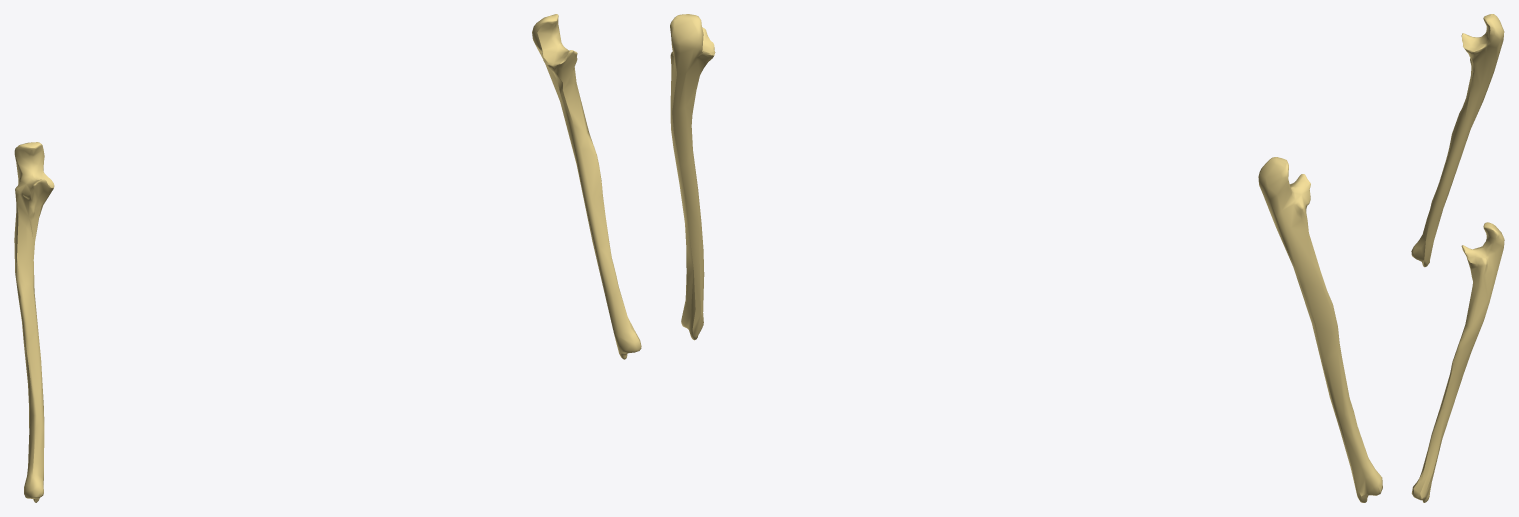
File: elbow-forearm.glb
3 views of the same model, side by side, from view 1: azimuth 30°, elevation 25°; view 2: azimuth 150°, elevation 25°; view 3: azimuth 270°, elevation 25° (orthographic). The views are drawn at different scales.
Parts seen in each view (by area): view 1: elbow-forearm:ulna:isa:FJ3286, elbow-forearm:ulna:isa:FJ3391; view 2: elbow-forearm:ulna:isa:FJ3391, elbow-forearm:ulna:isa:FJ3286; view 3: elbow-forearm:ulna:isa:FJ3286, elbow-forearm:ulna:isa:FJ3391.
Boxes of the visible parts, box(x1,y1,x2,y2) form: elbow-forearm:ulna:isa:FJ3286: box(532, 14, 641, 359); elbow-forearm:ulna:isa:FJ3391: box(14, 142, 54, 502); elbow-forearm:ulna:isa:FJ3391: box(1258, 157, 1382, 502); elbow-forearm:ulna:isa:FJ3286: box(670, 14, 715, 340); elbow-forearm:ulna:isa:FJ3286: box(1411, 222, 1504, 502); elbow-forearm:ulna:isa:FJ3391: box(1411, 14, 1504, 267).
Bounding box in the file's own units: 0.4943 × 0.2475 × 0.0789.
